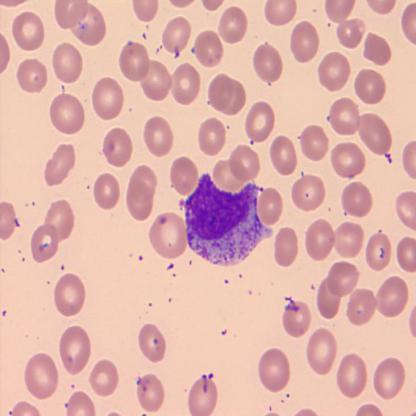Myelocyte: (186, 174, 275, 267)
